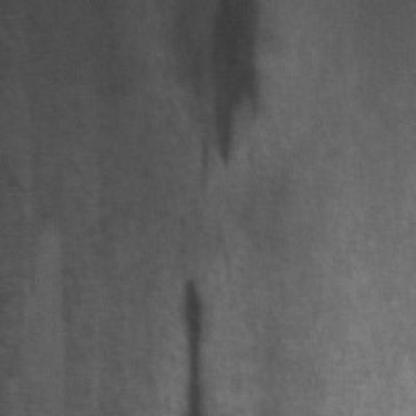inclusion: (199, 0, 279, 177), (175, 268, 216, 412)
